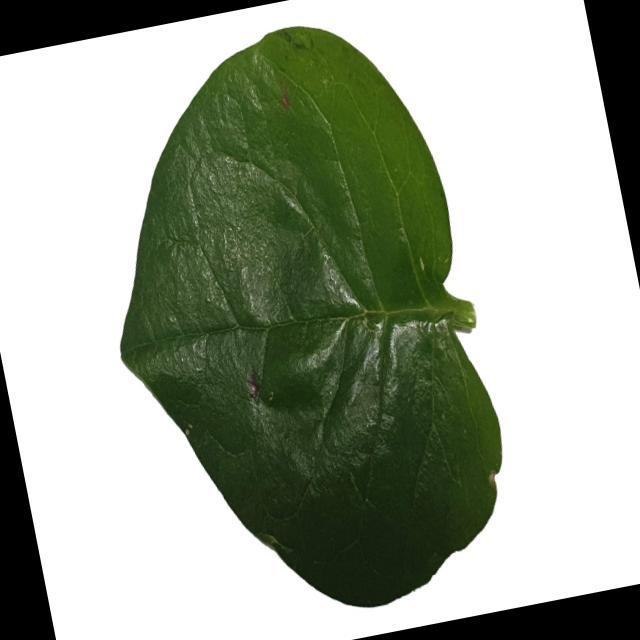Medicinal-Basale: (64, 1, 530, 640)
